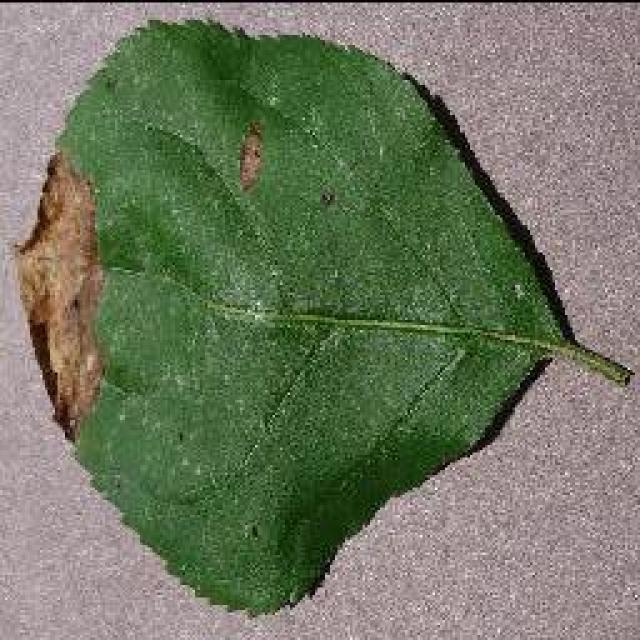Black_rot: (12, 15, 632, 617)
